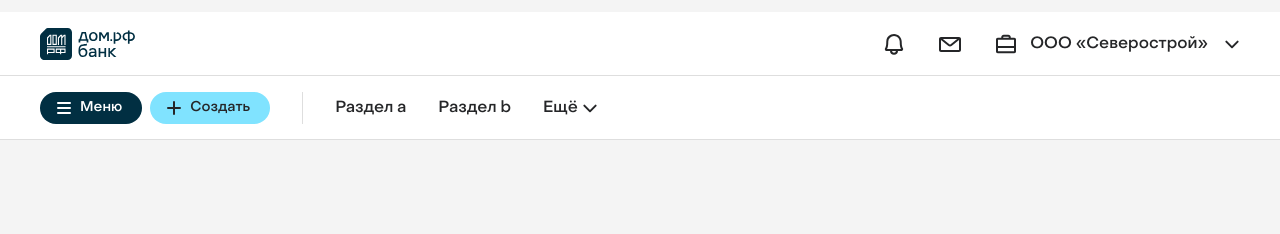
Scenario: Header: активный раздел в «Ещё» › строка текущего раздела отмечена галочкой и aria-current
Click the button "Ещё" at (570, 108), box [543,76,598,139]
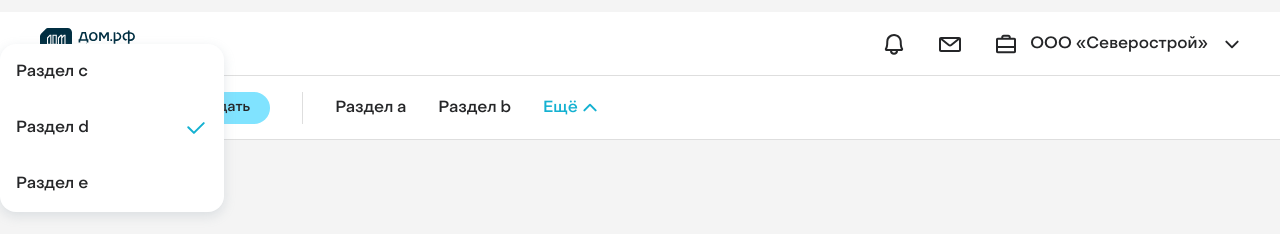
Result: the icon next to "Раздел d" is shown at [184,116,208,140]
